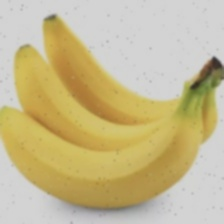banana: (31, 0, 191, 198)
